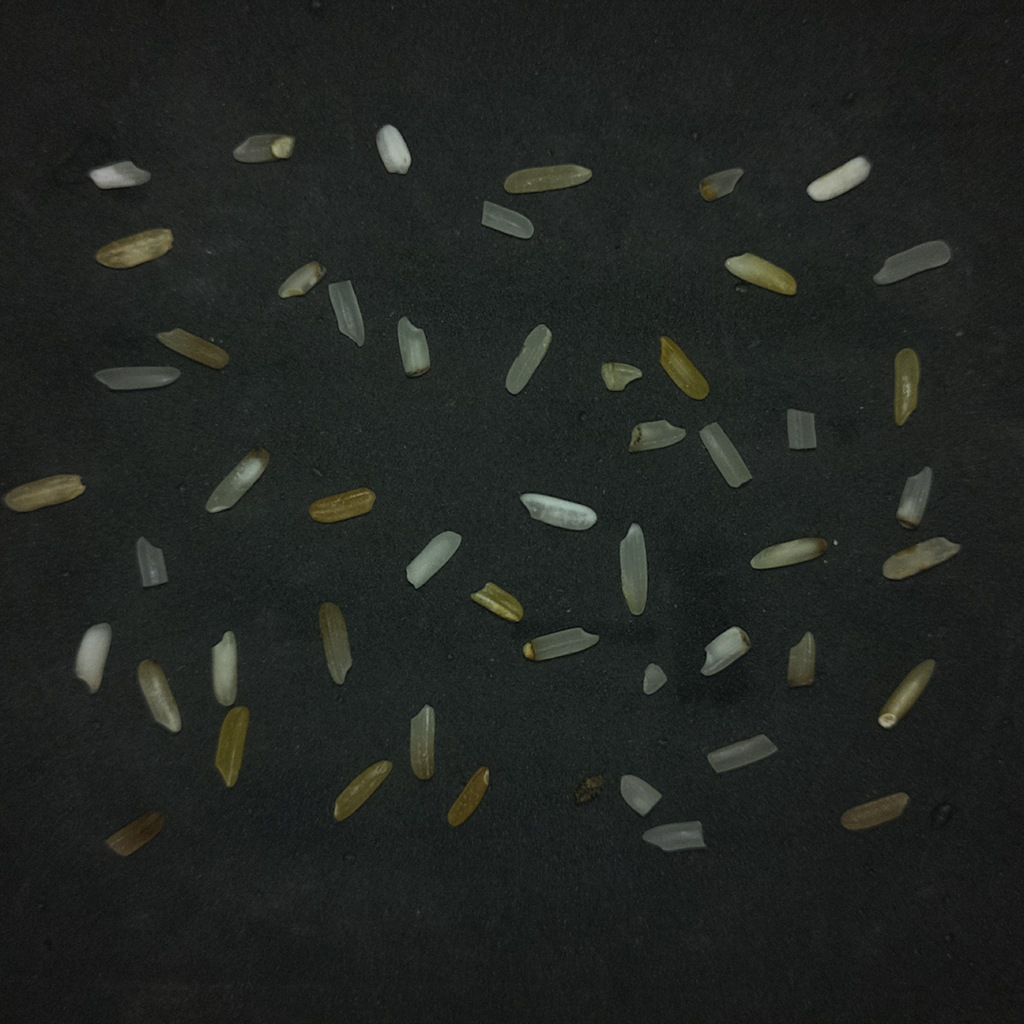broken: (505, 325, 551, 394), (707, 734, 777, 773), (642, 821, 705, 851), (481, 202, 533, 238), (620, 774, 661, 815), (136, 537, 167, 587), (787, 409, 816, 449), (643, 663, 666, 694)
chalky: (407, 531, 461, 588), (520, 492, 596, 530), (807, 156, 870, 201), (75, 623, 112, 693), (211, 631, 236, 706), (376, 124, 412, 175), (89, 160, 150, 189)
damaged: (205, 448, 269, 512), (883, 538, 960, 579), (523, 627, 598, 660), (701, 626, 750, 675), (750, 538, 827, 569), (897, 466, 932, 528), (397, 317, 429, 376), (628, 419, 685, 452), (233, 133, 294, 162), (278, 261, 324, 298), (787, 631, 816, 687), (699, 168, 743, 201), (601, 362, 642, 391)
discolored: (878, 659, 936, 729), (333, 760, 392, 821), (137, 660, 181, 732), (95, 228, 173, 268), (660, 336, 709, 399), (725, 252, 796, 295), (4, 474, 84, 511), (156, 328, 228, 368), (215, 706, 249, 787), (319, 602, 352, 684), (447, 767, 490, 828), (106, 811, 164, 856), (840, 792, 908, 830), (504, 164, 591, 193), (620, 523, 647, 615), (309, 488, 375, 522), (471, 582, 523, 621), (894, 348, 919, 425), (410, 704, 435, 780)
foreign: (574, 775, 605, 805)
whole: (873, 240, 950, 284), (699, 422, 751, 487), (328, 280, 364, 346), (95, 367, 179, 390)
